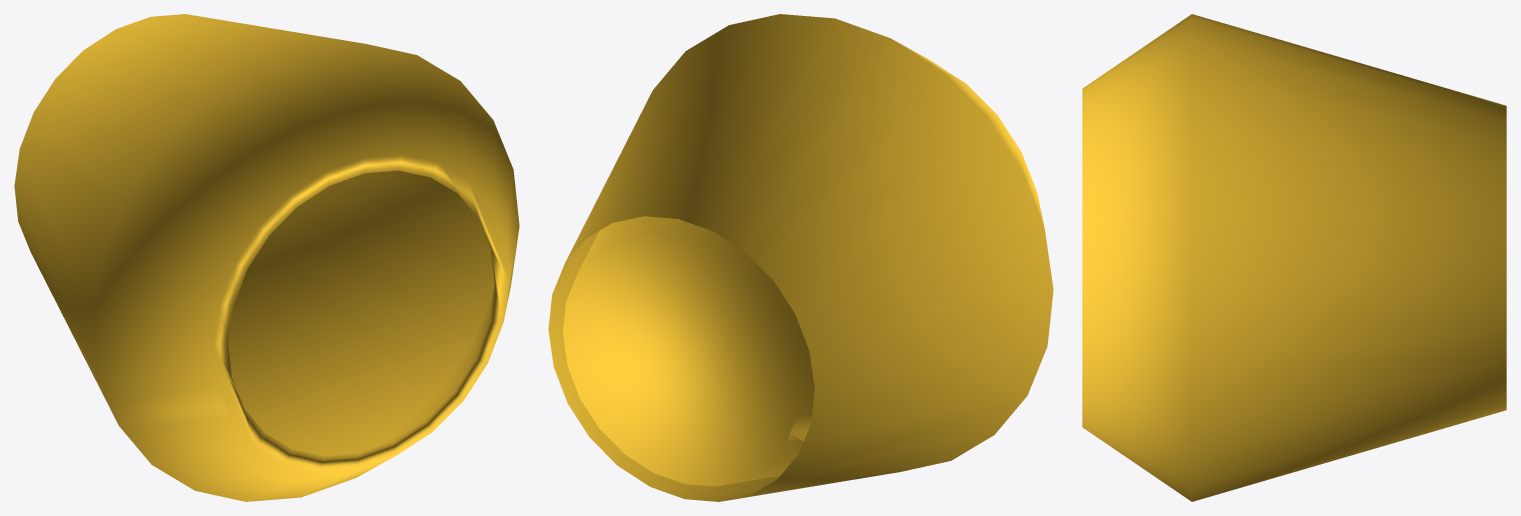
The model's file is model_scale.obj.
3 renders of one model, left to right at view 1: azimuth 30°, elevation 25°; view 2: azimuth 150°, elevation 25°; view 3: azimuth 270°, elevation 25°, orthographic.
Visible parts, largest first — view 1: mesh1_mesh1-geometry; view 2: mesh1_mesh1-geometry; view 3: mesh1_mesh1-geometry.
Part boxes in pixels (x1,y1,x2,y2): mesh1_mesh1-geometry: (14, 14, 519, 501); mesh1_mesh1-geometry: (548, 14, 1053, 501); mesh1_mesh1-geometry: (1082, 14, 1506, 501).
Size of the model in its own units: 0.1845 by 0.1845 by 0.1601.
